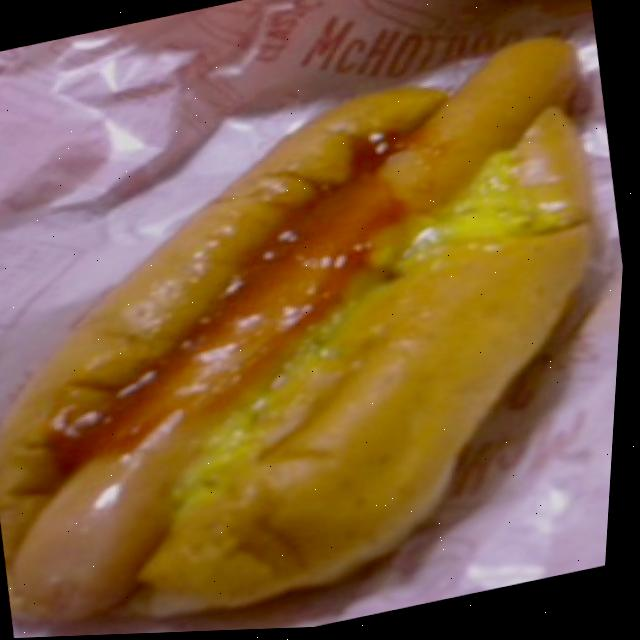汉堡快餐: (0, 42, 637, 640)
